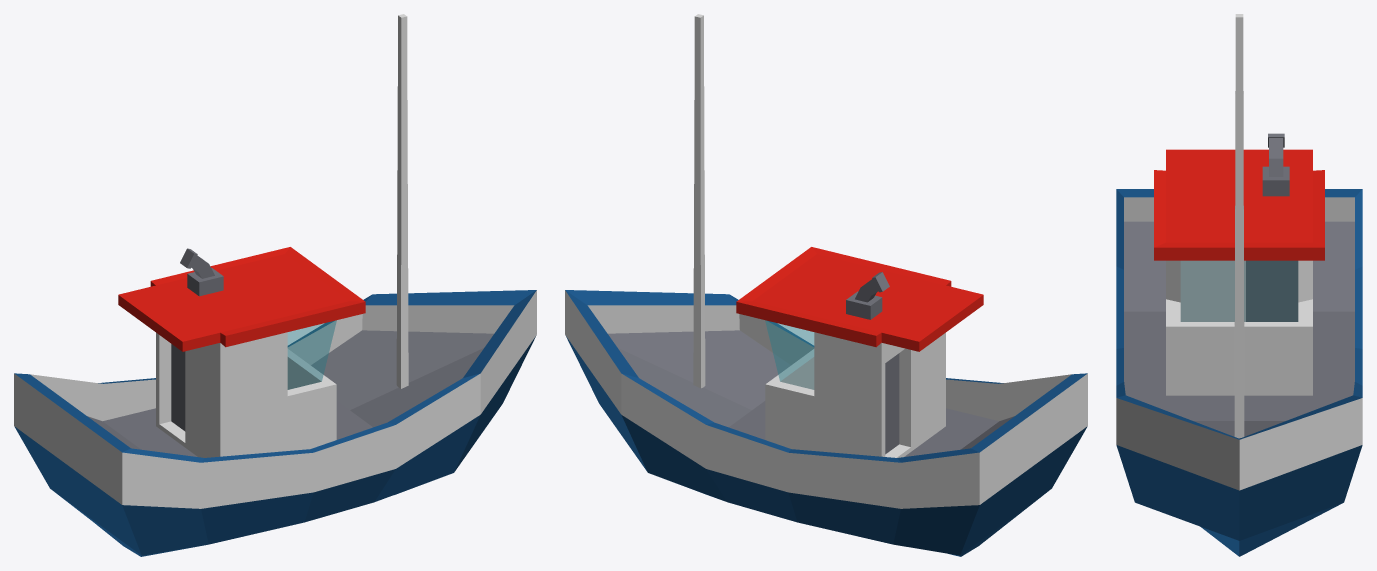
The model's file is boat_1.fbx.
3 renders of one model, left to right at view 1: azimuth 30°, elevation 25°; view 2: azimuth 150°, elevation 25°; view 3: azimuth 270°, elevation 25°, orthographic. The views are drawn at different scales.
Visible parts, largest first — view 1: bateau 1; view 2: bateau 1; view 3: bateau 1.
Boxes of the visible parts, bbox=[...] form: bateau 1: bbox=[14, 14, 536, 556]; bateau 1: bbox=[565, 14, 1087, 556]; bateau 1: bbox=[1116, 14, 1362, 556].
Bounding box in the file's own units: 211 × 200 × 84.47.
